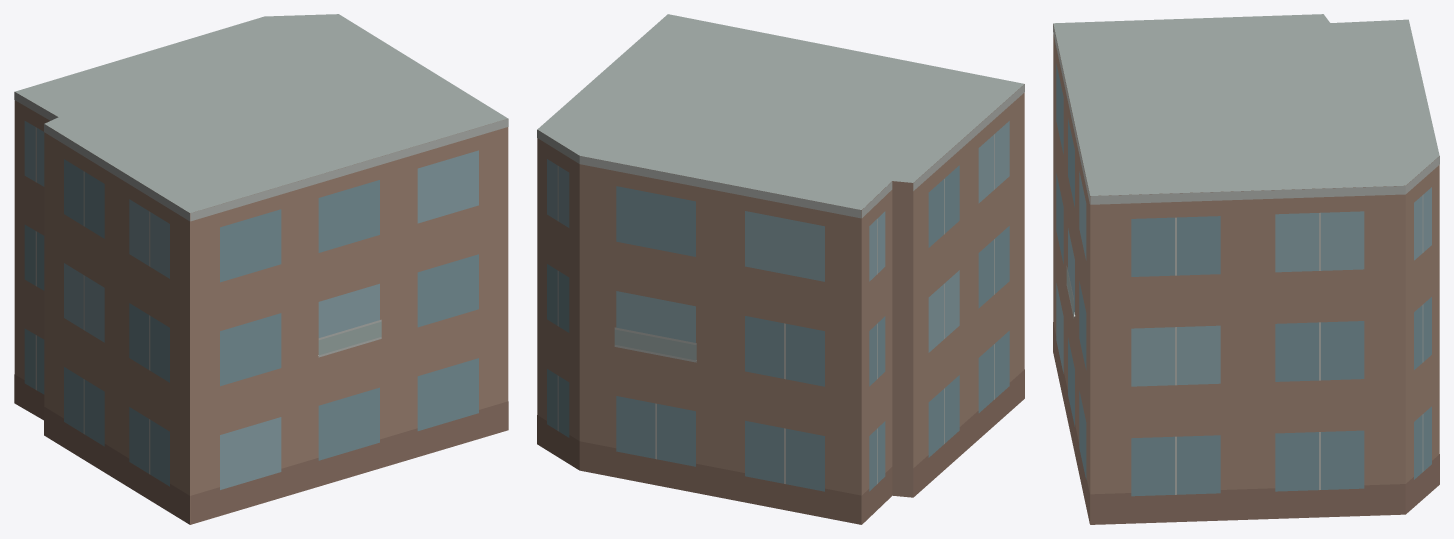
Rendered from survey-upis-32655346.glb.
3 views of the same model, side by side, from view 1: azimuth 30°, elevation 25°; view 2: azimuth 150°, elevation 25°; view 3: azimuth 270°, elevation 25° (orthographic). The views are drawn at different scales.
Visible parts, largest first — view 1: survey-upis-32655346.tmp; view 2: survey-upis-32655346.tmp; view 3: survey-upis-32655346.tmp.
Part boxes in pixels (<box>): survey-upis-32655346.tmp: <box>14,14,508,524</box>; survey-upis-32655346.tmp: <box>537,14,1024,524</box>; survey-upis-32655346.tmp: <box>1053,14,1439,524</box>.
Bounding box in the file's own units: 10.87 × 9.15 × 9.76.
